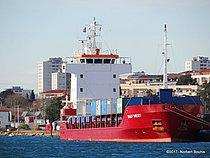Ship: (49, 12, 210, 148)
